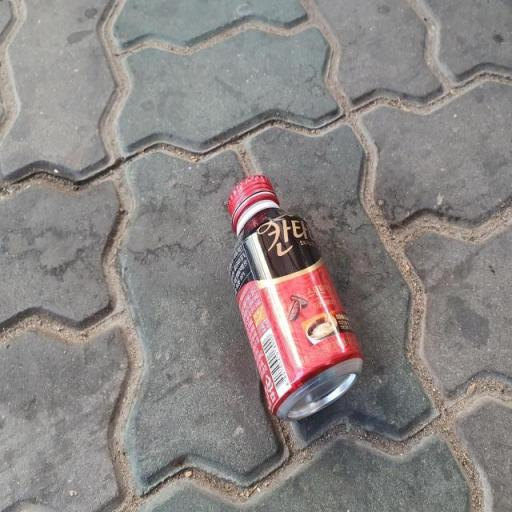metal: (194, 158, 396, 452)
